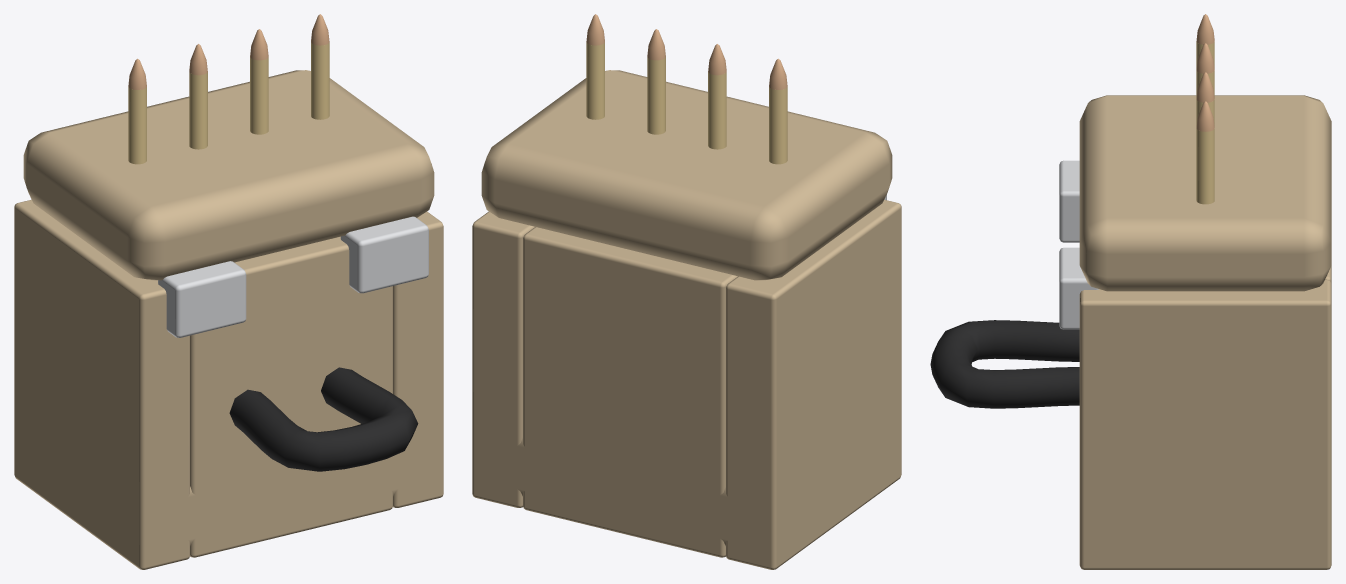
File: fps-weapon-set-and-firing-range-full-power-ammo-box-a1dcf7e3__19486.glb
3 views of the same model, side by side, from view 1: azimuth 30°, elevation 25°; view 2: azimuth 150°, elevation 25°; view 3: azimuth 270°, elevation 25° (orthographic). The views are drawn at different scales.
Parts seen in each view (by area): view 1: full-power-ammo-box, lid; view 2: full-power-ammo-box, lid; view 3: full-power-ammo-box, lid.
Boxes of the visible parts, <box> form: full-power-ammo-box: <box>14,14,443,569</box>; lid: <box>23,70,434,280</box>; full-power-ammo-box: <box>472,14,901,569</box>; lid: <box>481,70,892,280</box>; full-power-ammo-box: <box>930,14,1331,569</box>; lid: <box>1079,95,1331,291</box>.
Size of the model in its own units: 0.15 by 0.213 by 0.1753.
